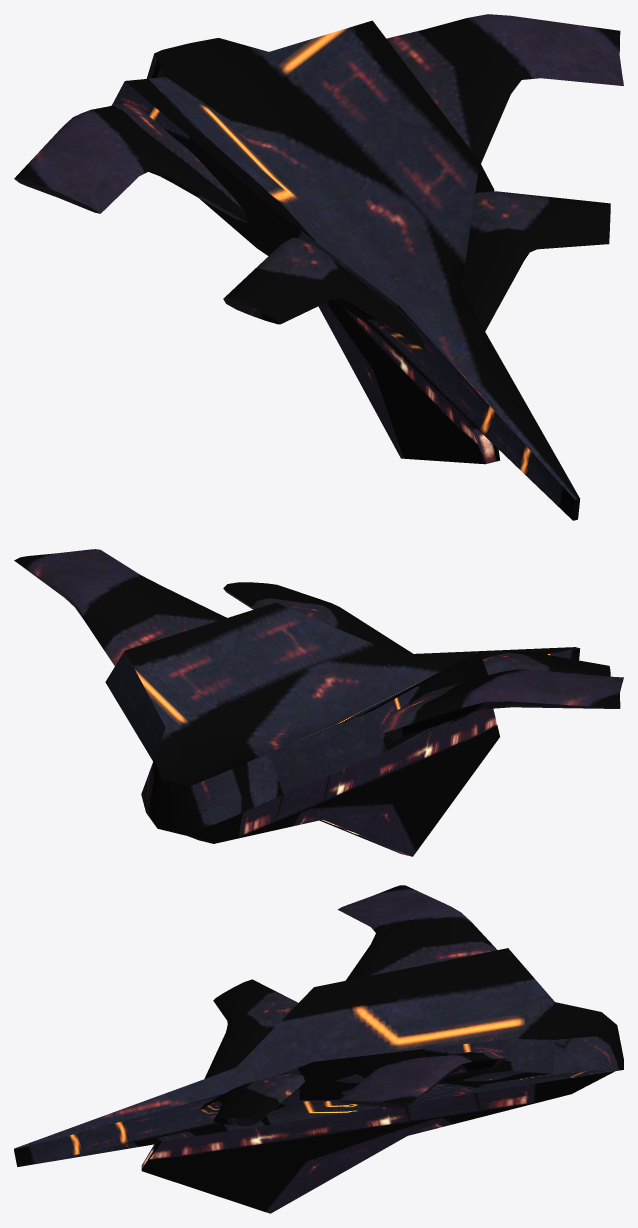
File: ship16c.fbx
3 views of the same model, one above another, from view 1: azimuth 30°, elevation 25°; view 2: azimuth 150°, elevation 25°; view 3: azimuth 270°, elevation 25° (orthographic). The views are drawn at different scales.
Parts seen in each view (by area): view 1: PipelineFBX; view 2: PipelineFBX; view 3: PipelineFBX.
Boxes of the visible parts, x1,y1,x2,y2 form: PipelineFBX: (14,14,623,520); PipelineFBX: (14,549,623,856); PipelineFBX: (14,885,623,1213).
Size of the model in its own units: 224 by 108 by 260.
Materials: 1 (1 with a texture image).
